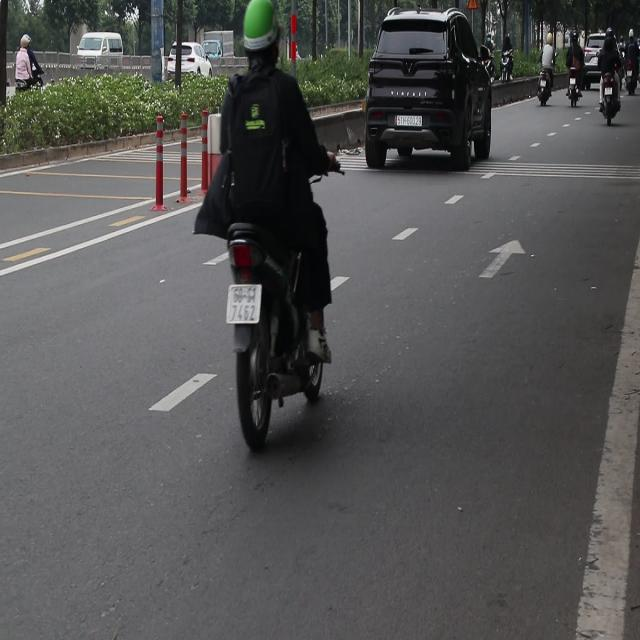car: (364, 7, 494, 172), (166, 42, 215, 78), (78, 32, 124, 64), (585, 34, 606, 56), (200, 40, 222, 59)
motorbike: (205, 218, 344, 442), (12, 67, 56, 101), (600, 77, 624, 128), (568, 74, 590, 120), (538, 61, 556, 111), (504, 46, 522, 90)
